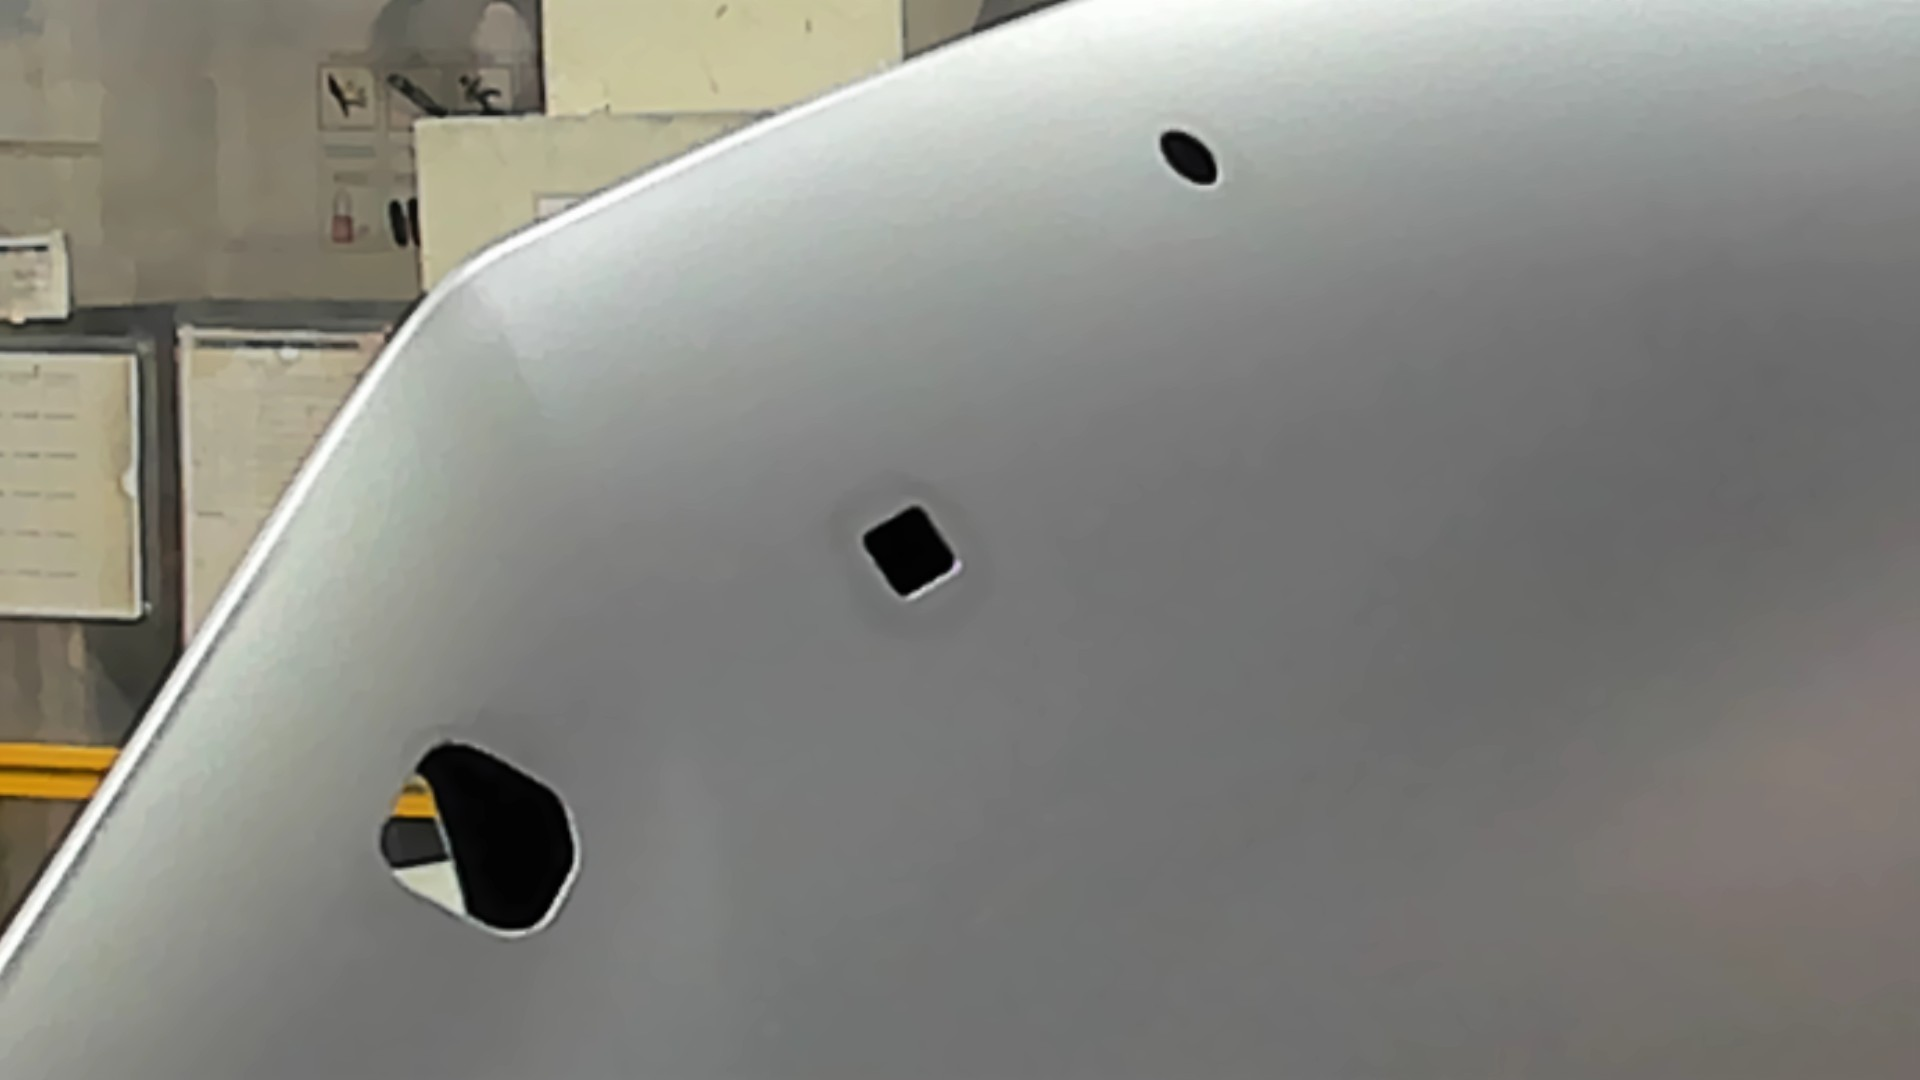capo: (975, 194, 1920, 1080)
chico: (1154, 123, 1228, 193)
grande: (373, 732, 585, 947)
mediano: (855, 497, 971, 611)
